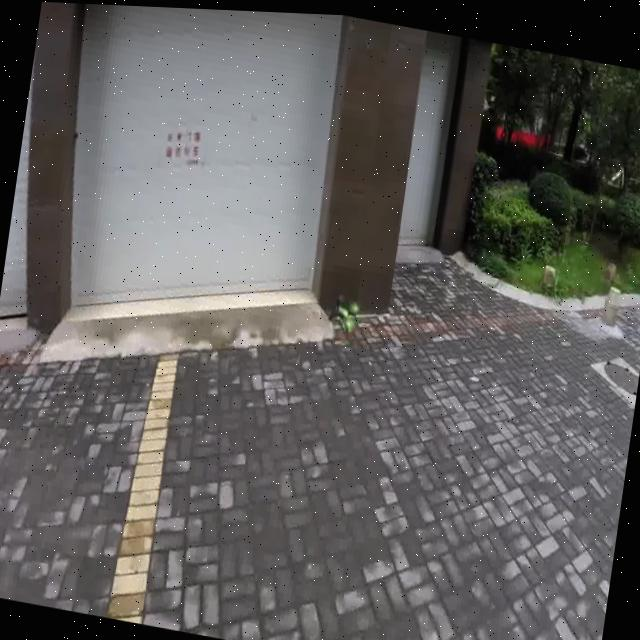drone: (322, 275, 373, 343)
